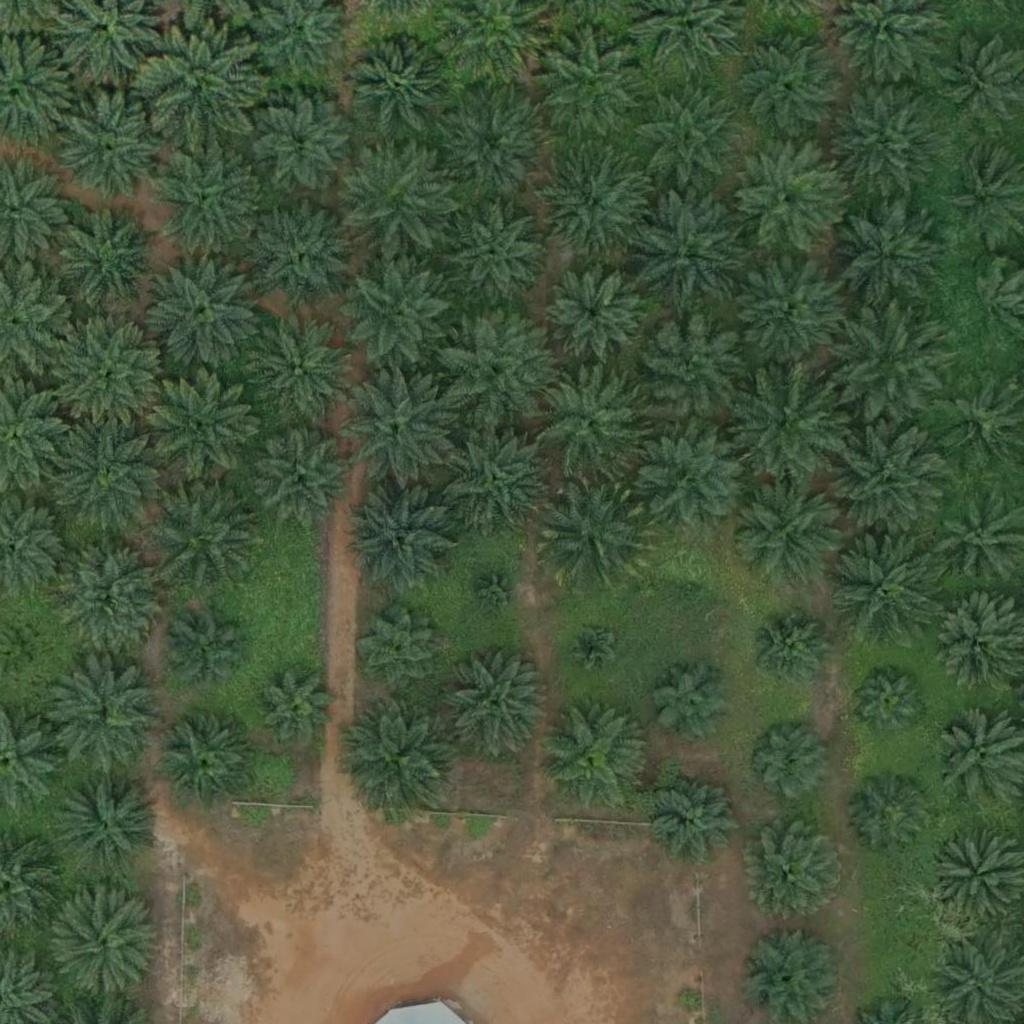Kelapa_Sawit: (536, 29, 649, 143), (828, 524, 941, 638), (731, 255, 844, 369), (728, 365, 841, 479), (629, 84, 742, 198), (631, 194, 744, 308), (539, 149, 652, 263), (53, 538, 166, 652), (144, 28, 257, 141), (733, 475, 846, 588), (635, 315, 748, 428), (343, 259, 456, 372), (343, 372, 456, 485), (346, 487, 459, 600), (241, 308, 354, 421), (57, 319, 170, 432), (51, 414, 164, 527), (47, 662, 160, 775), (51, 766, 164, 879), (51, 889, 164, 1002), (346, 700, 459, 813), (832, 305, 944, 419), (834, 422, 946, 536), (538, 700, 650, 814), (537, 476, 649, 589), (435, 87, 547, 200), (732, 27, 844, 140), (831, 84, 943, 197), (830, 199, 942, 312), (730, 142, 842, 255), (640, 422, 752, 535), (535, 366, 647, 479), (435, 312, 547, 425), (439, 419, 551, 532), (338, 141, 450, 254), (150, 145, 262, 258), (147, 256, 259, 369), (152, 368, 264, 481), (151, 475, 263, 588), (57, 90, 169, 203), (439, 650, 551, 763), (252, 97, 352, 198), (352, 39, 452, 140), (544, 263, 644, 364), (446, 204, 546, 305), (252, 201, 352, 302), (253, 428, 353, 529), (62, 207, 162, 308), (746, 821, 846, 921), (162, 718, 250, 807), (655, 773, 743, 861), (358, 608, 445, 696), (649, 658, 736, 746), (748, 608, 835, 696), (745, 717, 832, 805), (847, 772, 934, 860), (171, 618, 246, 694), (257, 669, 332, 744), (850, 664, 925, 739), (473, 566, 523, 617), (567, 622, 617, 673), (664, 559, 714, 609)
